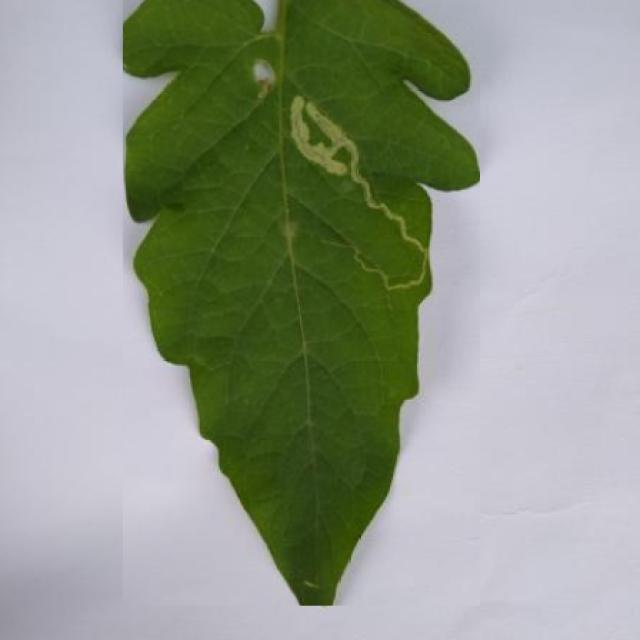Leaf Miner: (123, 0, 480, 606)
